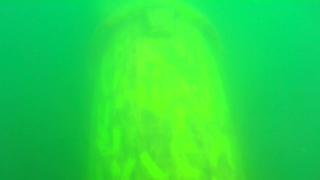pipe: (81, 1, 247, 179)
